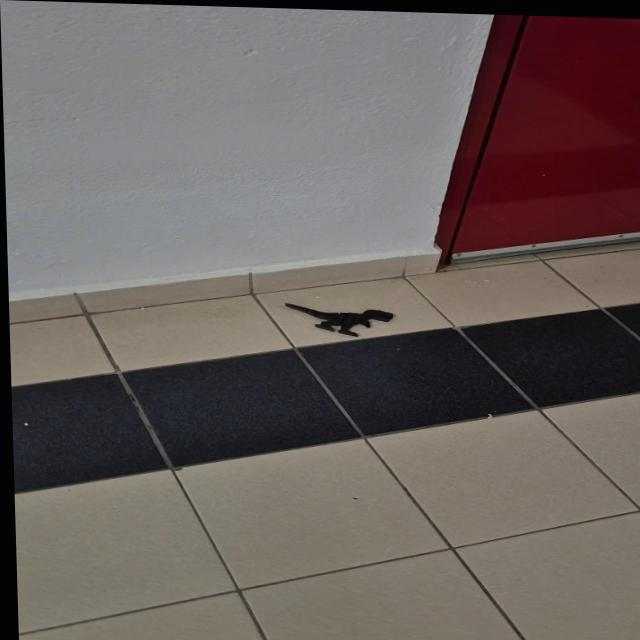dino: (284, 302, 395, 338)
